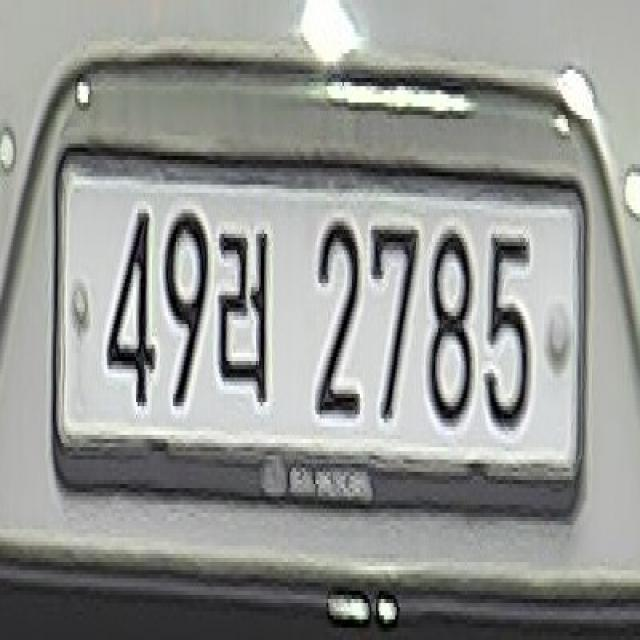2: (312, 200, 370, 433)
4: (106, 198, 158, 418)
5: (483, 223, 537, 446)
7: (370, 204, 424, 442)
8: (426, 218, 476, 440)
9: (163, 198, 214, 423)
leo: (217, 224, 280, 417)
license_plate: (39, 144, 595, 536)
